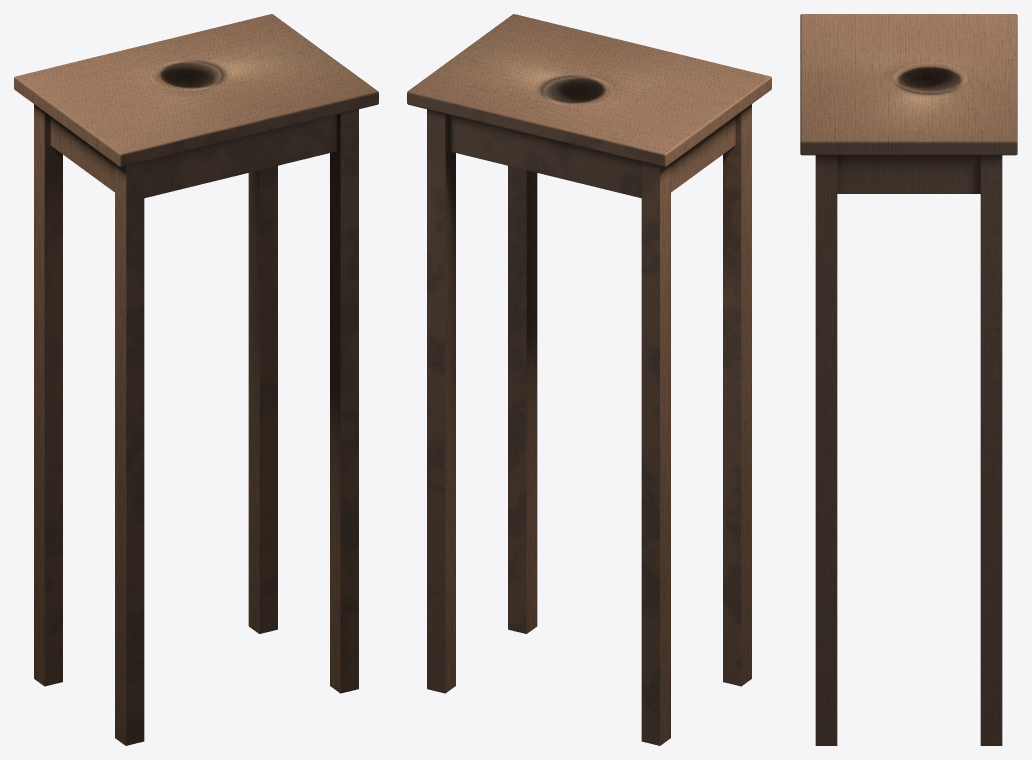
Rendered from 817_nonm.glb.
The picture shows the model from 3 angles, left to right: view 1: azimuth 30°, elevation 25°; view 2: azimuth 150°, elevation 25°; view 3: azimuth 270°, elevation 25°; orthographic projection.
Parts seen in each view (by area): view 1: Table; view 2: Table; view 3: Table.
Boxes of the visible parts, x1,y1,x2,y2 form: Table: (14, 14, 378, 745); Table: (407, 14, 771, 745); Table: (800, 14, 1017, 745).
Size of what is drawn, in the model's own units: 1.4 by 3.1 by 1.
Materials: 1 (1 with a texture image).
